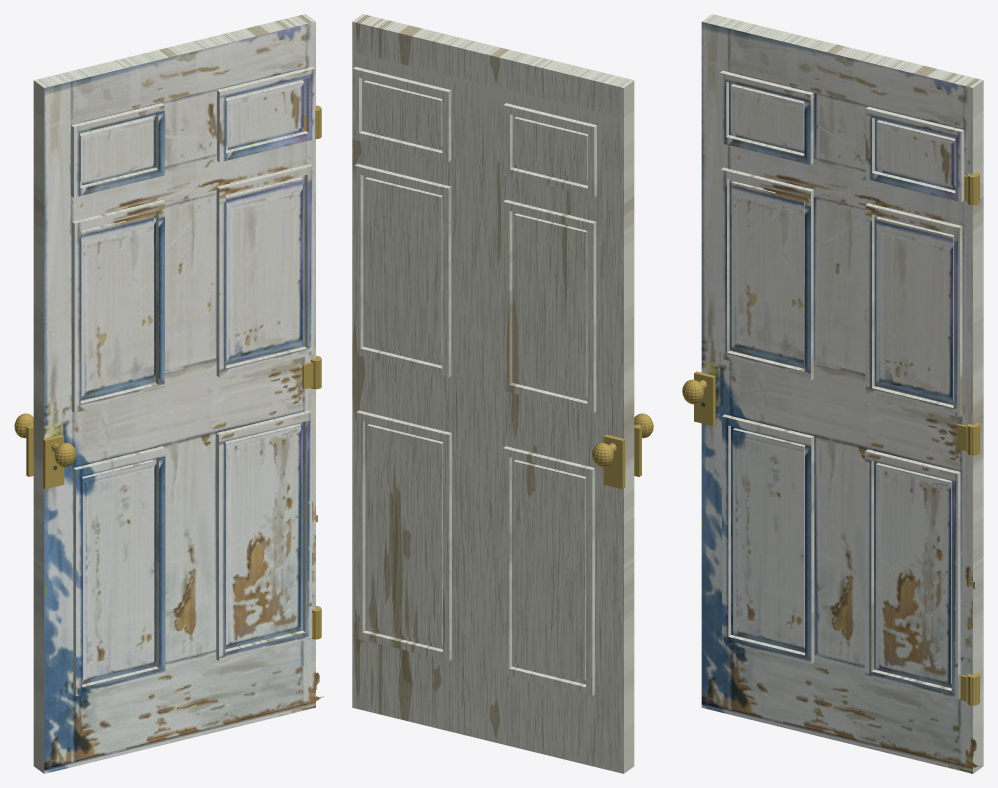
File: DoorLeaf.fbx
The picture shows the model from 3 angles, left to right: view 1: azimuth 30°, elevation 25°; view 2: azimuth 150°, elevation 25°; view 3: azimuth 330°, elevation 25°; orthographic projection.
Visible parts, largest first — view 1: Geometry_5932C1F0_005, Geometry_0BC887AE_005, Geometry_D93CF93C_005, Geometry_A04354BC_005; view 2: Geometry_0BC887AE_005, Geometry_D93CF93C_005, Geometry_7378BEF7_005, Geometry_A04354BC_005; view 3: Geometry_5932C1F0_005, Geometry_0BC887AE_005, Geometry_D93CF93C_005, Geometry_A04354BC_005.
Part boxes in pixels (x1=…): Geometry_5932C1F0_005: x1=44, y1=22, x2=323, y2=773; Geometry_0BC887AE_005: x1=33, y1=14, x2=315, y2=773; Geometry_D93CF93C_005: x1=71, y1=66, x2=314, y2=695; Geometry_A04354BC_005: x1=14, y1=105, x2=321, y2=639; Geometry_0BC887AE_005: x1=352, y1=14, x2=634, y2=773; Geometry_D93CF93C_005: x1=352, y1=66, x2=596, y2=696; Geometry_7378BEF7_005: x1=362, y1=78, x2=587, y2=684; Geometry_A04354BC_005: x1=592, y1=413, x2=653, y2=489; Geometry_5932C1F0_005: x1=701, y1=22, x2=980, y2=773; Geometry_0BC887AE_005: x1=702, y1=14, x2=983, y2=773; Geometry_D93CF93C_005: x1=720, y1=71, x2=964, y2=699; Geometry_A04354BC_005: x1=682, y1=172, x2=979, y2=705.
Size of the model in its own units: 0.9051 by 2.1 by 0.2739.
